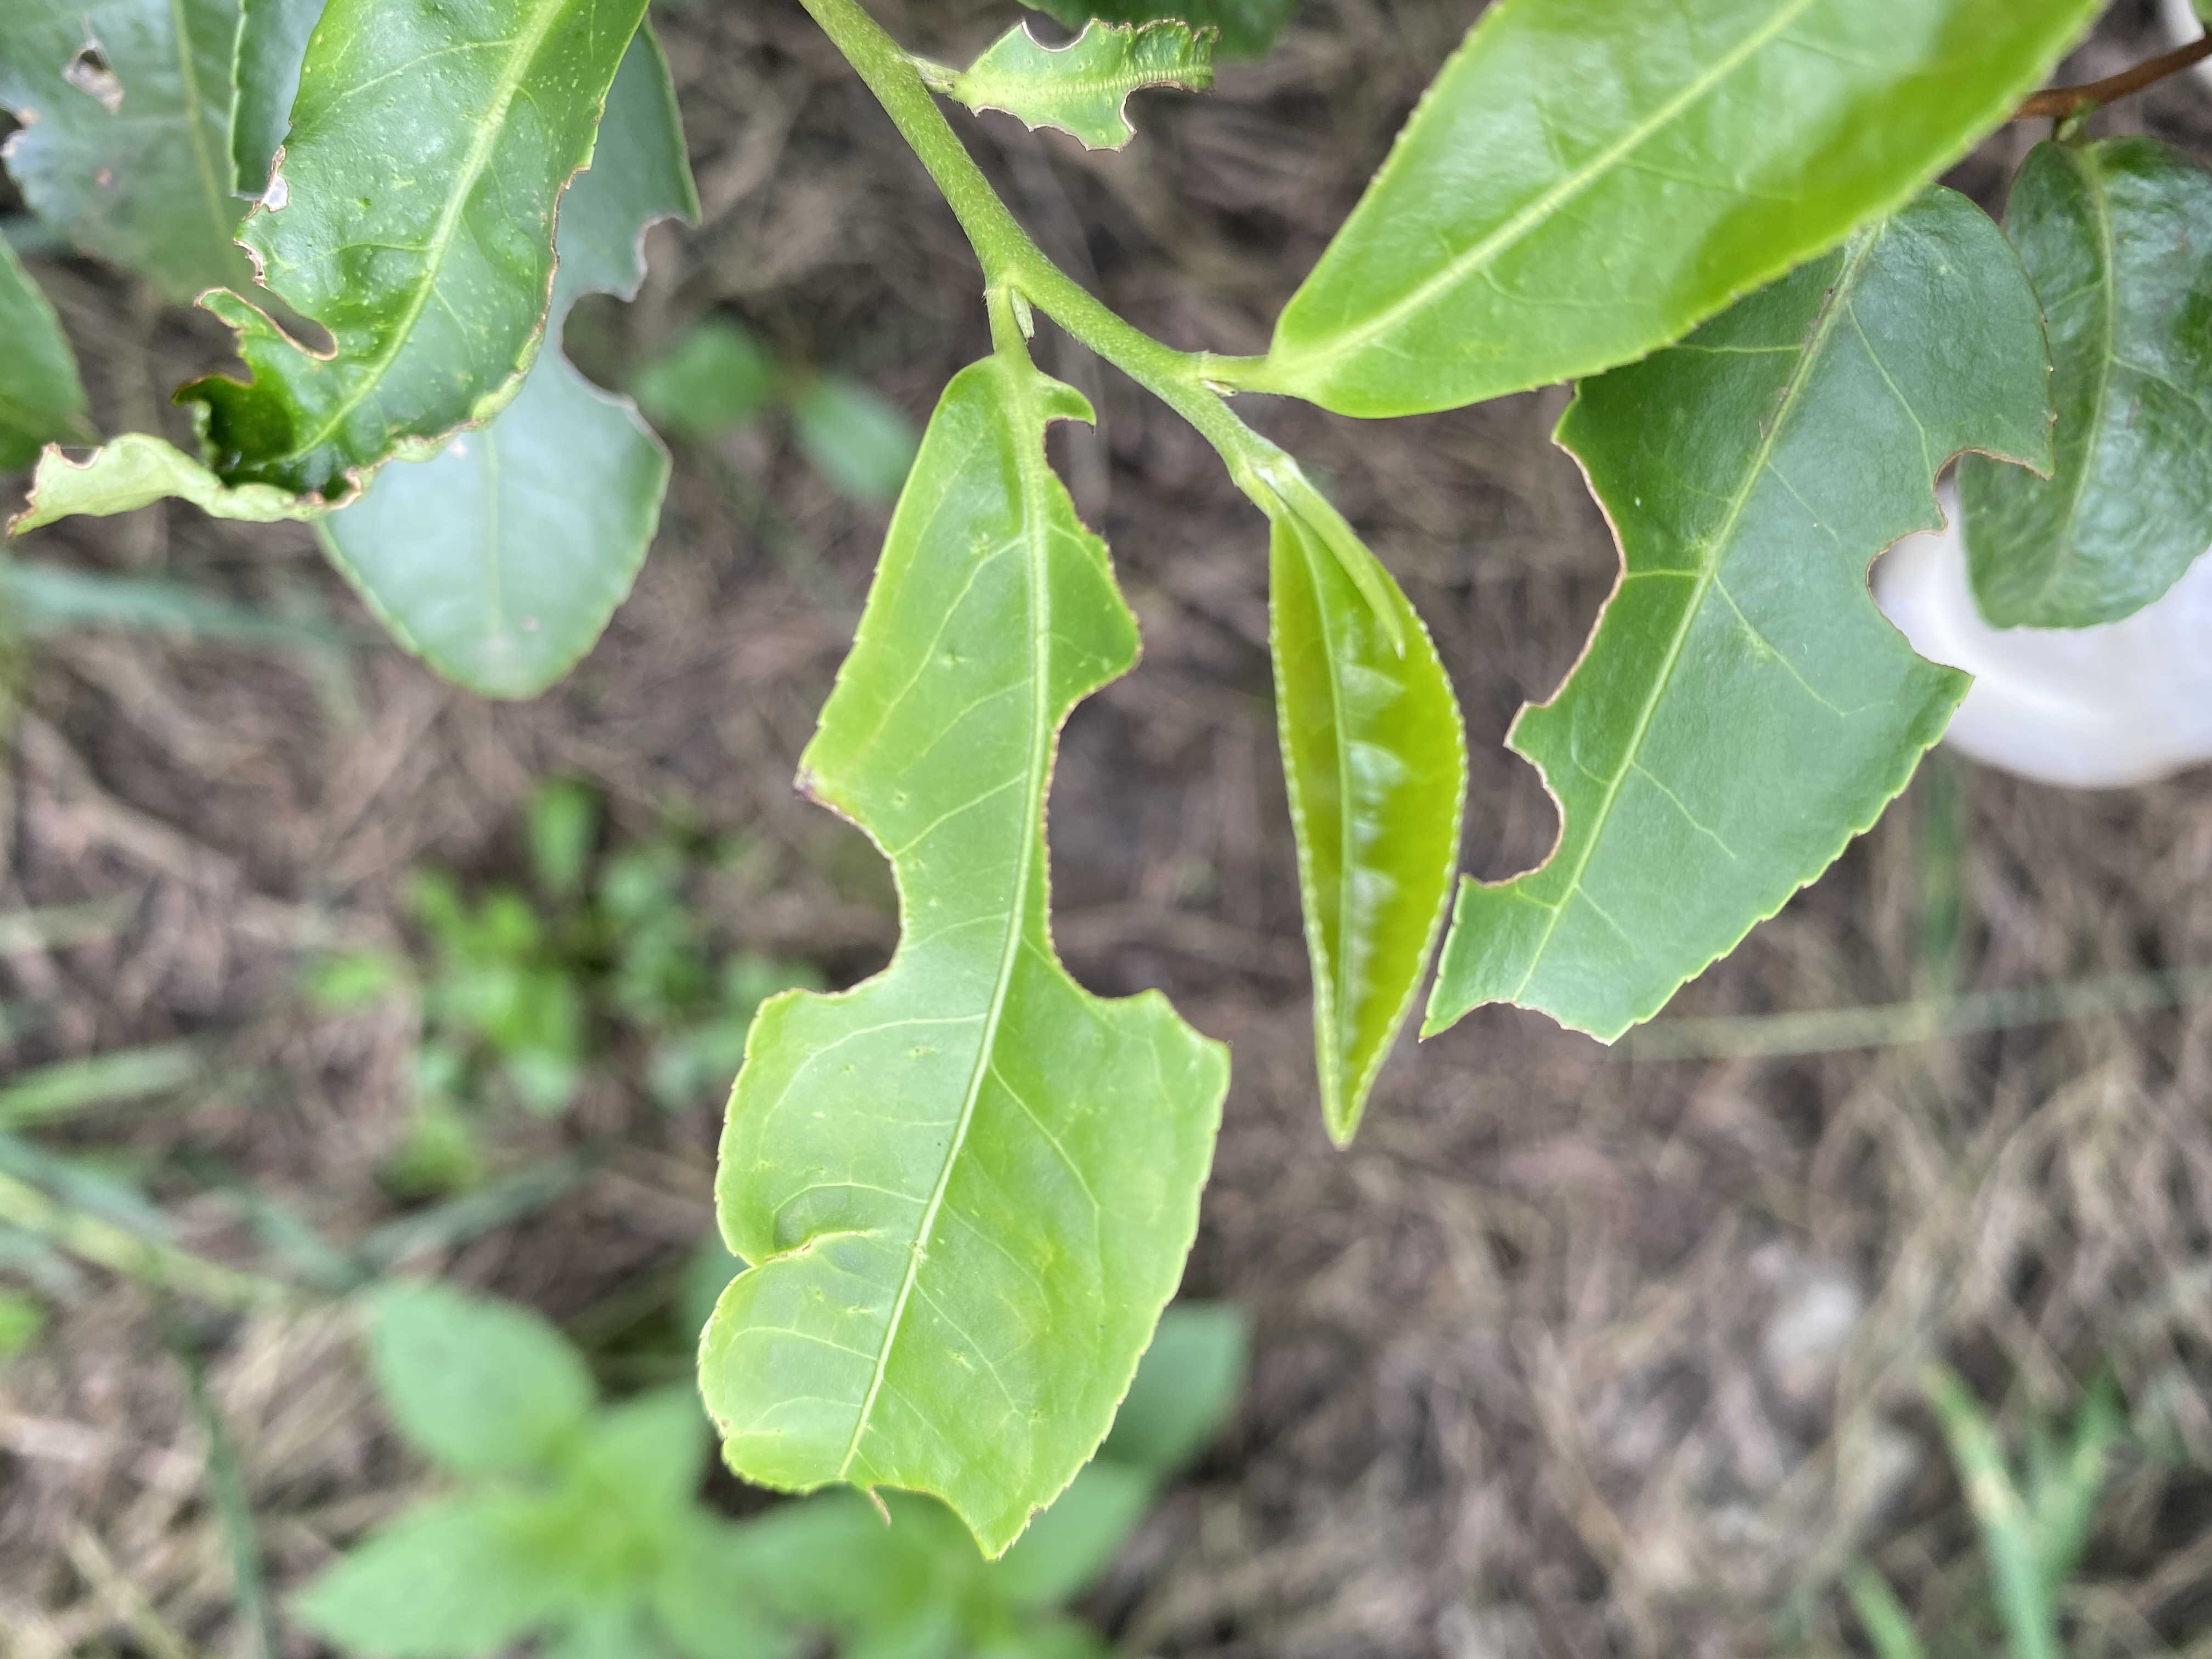chihuo_high: (690, 357, 1235, 1565), (1416, 185, 2062, 1051), (7, 2, 655, 545), (223, 5, 702, 702), (948, 14, 1226, 152)
healthy: (1278, 2, 2106, 425), (1261, 521, 1470, 1152)
